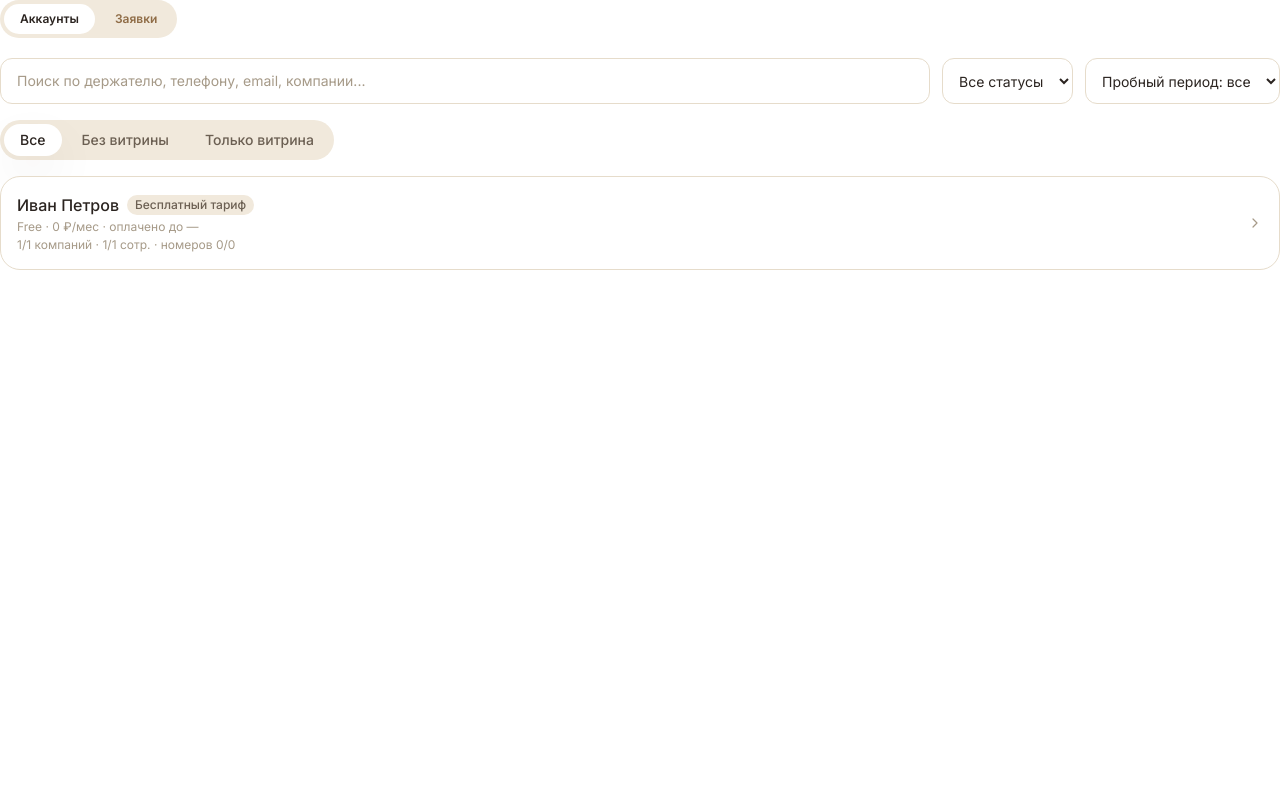
BillingAccountsAdminTab — assign subscription modal › does not offer WhatsApp / MAX in the subscription form catalog (cycle 43, US-43-03 кр. 6)
The image size is (1280, 800).
Click the text "Иван Петров" at point(68, 205), box [17,193,119,217]
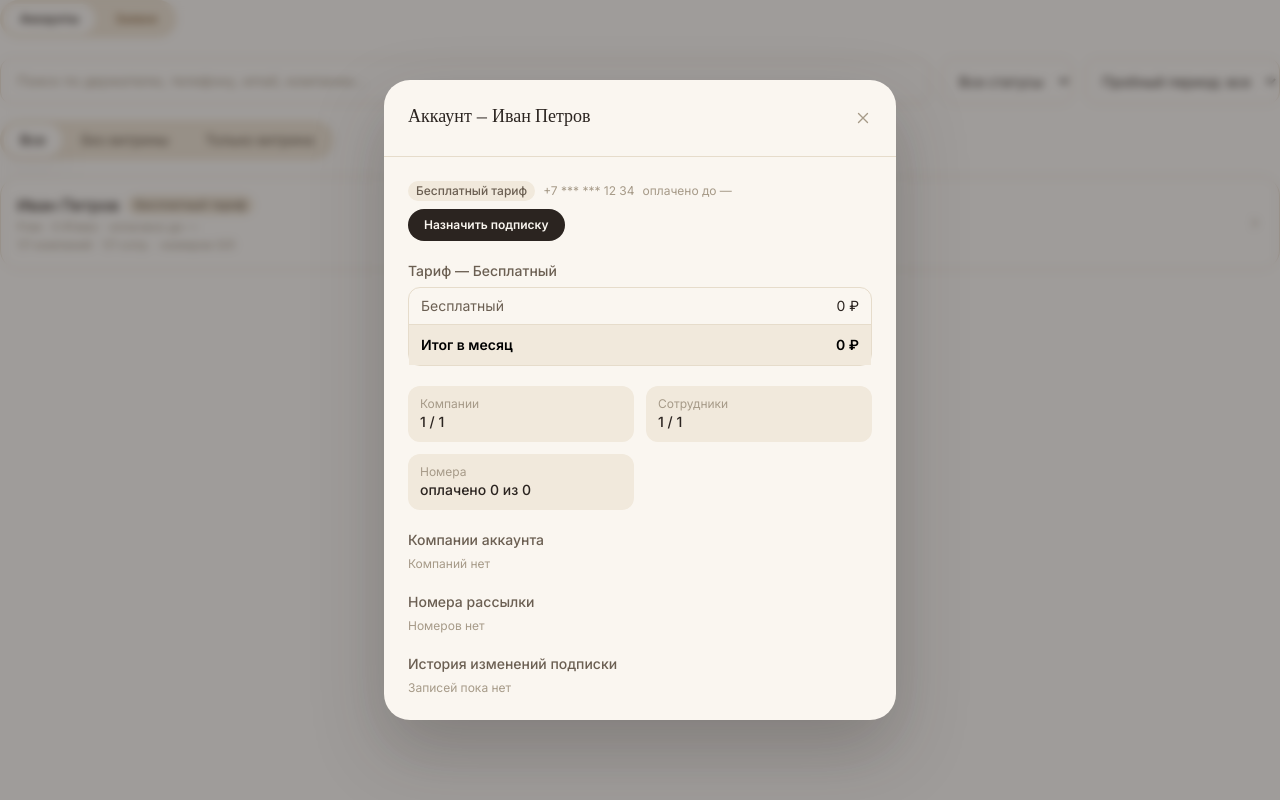
Expected: the button "Назначить подписку" is shown
Click the button "Назначить подписку" at point(486, 225), box [408,209,564,241]
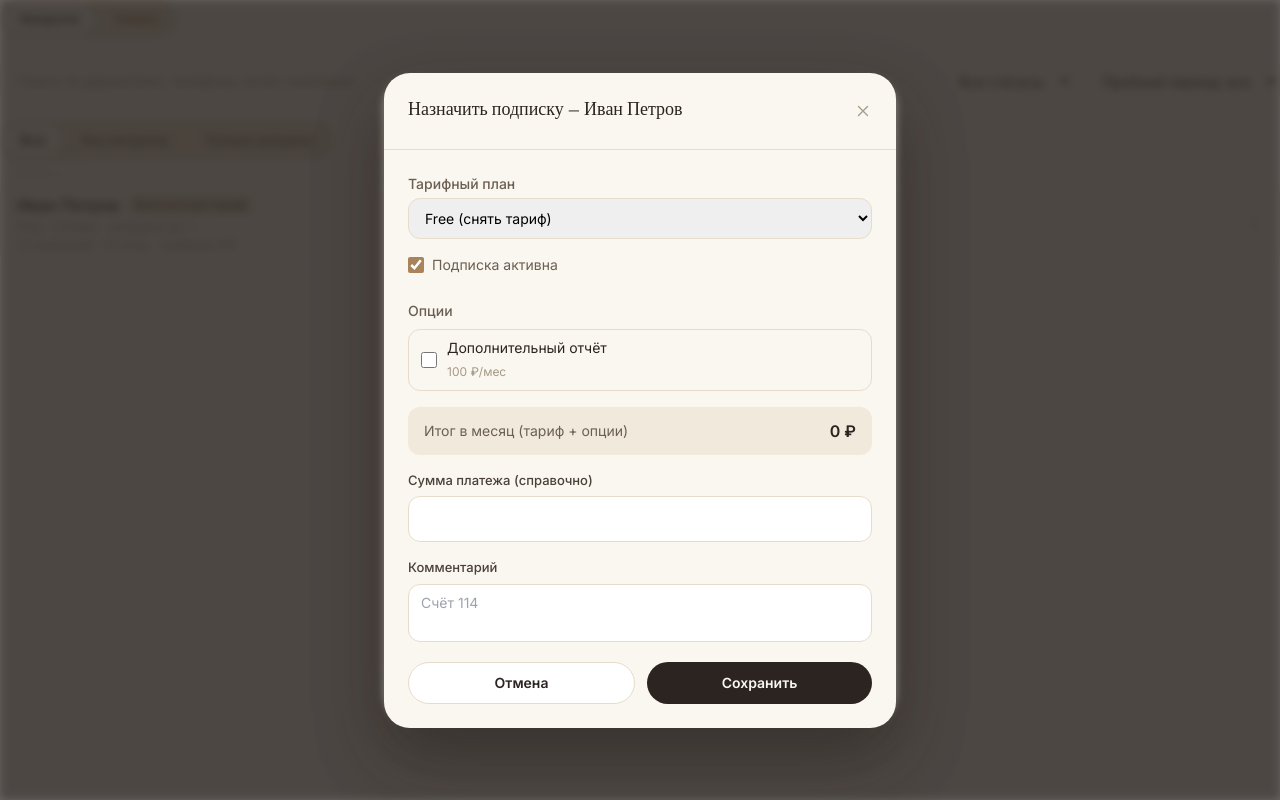
Expected: the text "Тарифный план" is shown, [408,174,515,192]
Expected: the text "Дополнительный отчёт" is shown, [447,338,607,358]
